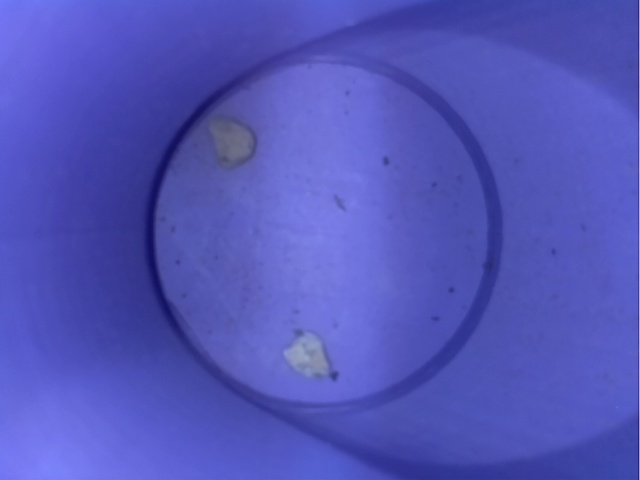caillou: (269, 317, 341, 389), (204, 110, 269, 182)
